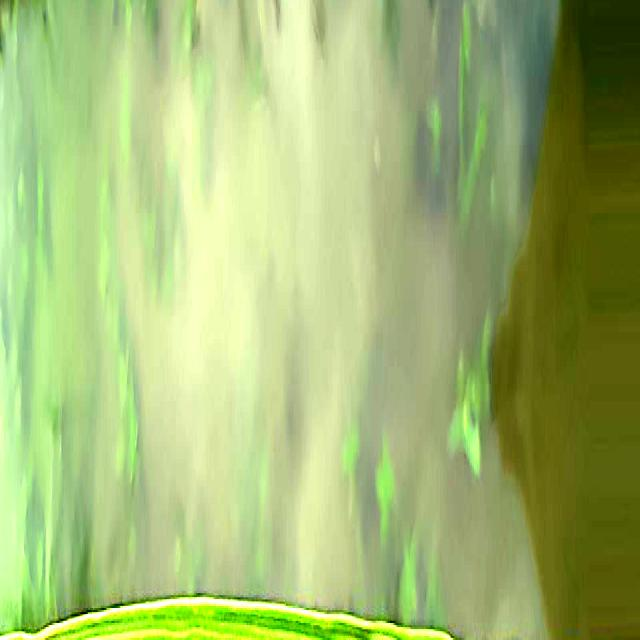NBS: (348, 632, 352, 640)
